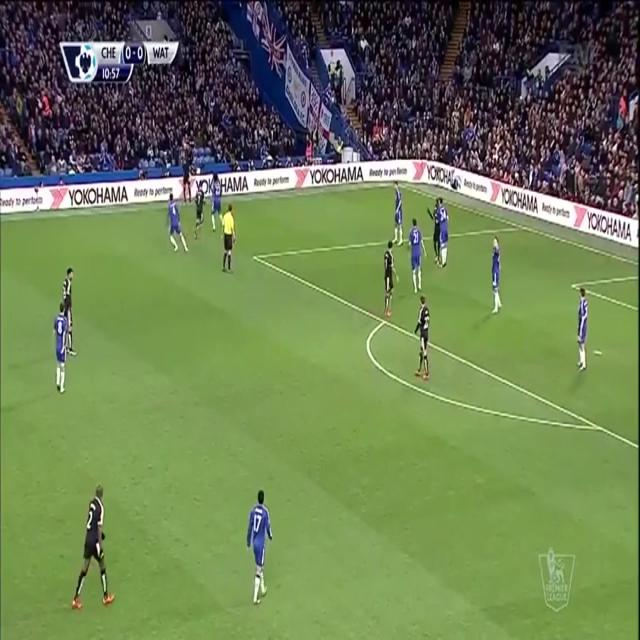Player: (70, 479, 115, 611), (246, 485, 275, 605), (406, 215, 429, 295), (412, 295, 432, 382), (60, 265, 78, 359), (164, 191, 190, 256), (51, 302, 68, 394), (573, 284, 590, 375), (382, 240, 401, 320), (489, 234, 503, 318), (427, 198, 442, 266), (437, 196, 451, 268), (192, 179, 208, 240), (210, 171, 224, 234), (392, 179, 404, 250), (180, 155, 194, 204)
Referee: (220, 202, 236, 272)
